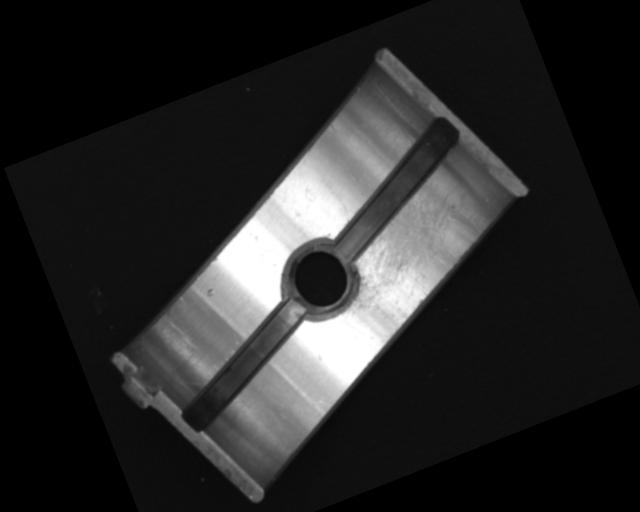bruise: (204, 286, 217, 299)
gap: (308, 115, 483, 261), (159, 296, 331, 434)
hole: (275, 232, 366, 328)
nick: (162, 309, 199, 358)
scratch: (312, 171, 497, 346)
